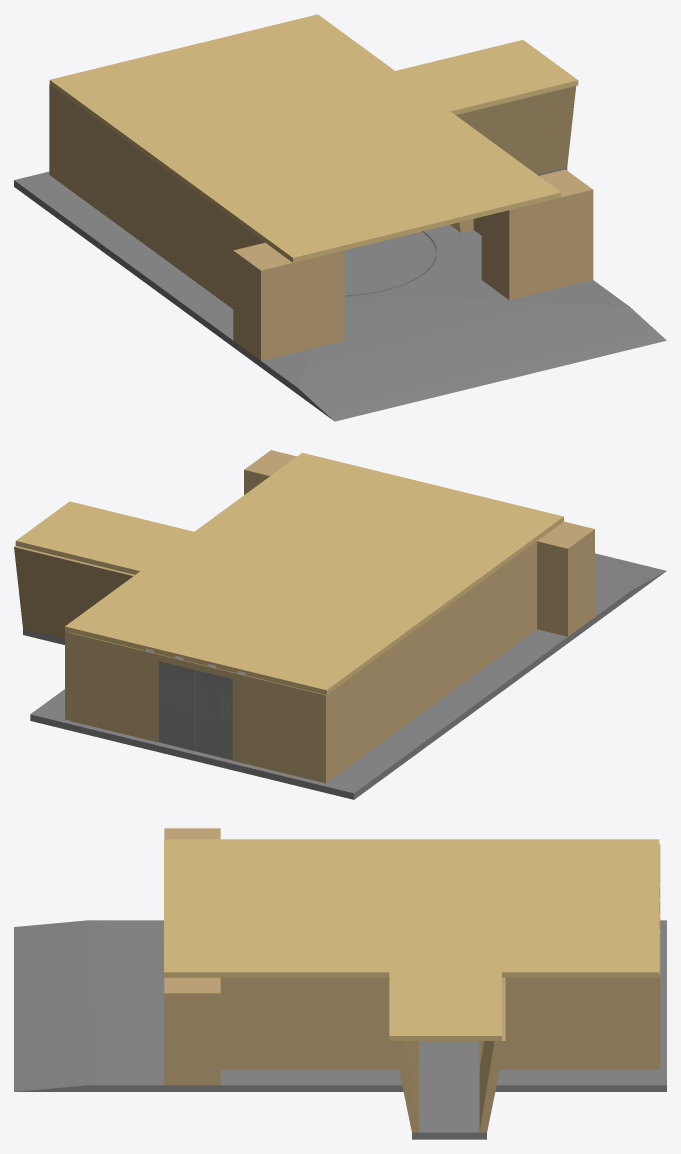
The model's file is Garage.FBX.
The picture shows the model from 3 angles, top to bottom: view 1: azimuth 30°, elevation 25°; view 2: azimuth 150°, elevation 25°; view 3: azimuth 270°, elevation 25°; orthographic projection. The views are drawn at different scales.
Parts seen in each view (by area): view 1: Walls, Floor, Platform; view 2: Walls, Floor, Panel; view 3: Walls, Floor.
Part boxes in pixels (x1,y1,x2,y2): Walls: [49, 14, 593, 360]; Floor: [14, 167, 666, 421]; Platform: [344, 231, 435, 295]; Walls: [14, 450, 594, 783]; Floor: [23, 553, 666, 799]; Panel: [158, 661, 232, 760]; Walls: [164, 828, 660, 1132]; Floor: [14, 920, 666, 1139].
Size of the model in its own units: 528 by 121 by 685.
